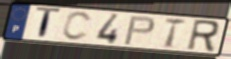4: (93, 12, 120, 45)
C: (60, 11, 93, 43)
P: (122, 15, 156, 46)
R: (185, 18, 221, 54)
T: (34, 6, 63, 42), (163, 16, 189, 50)
